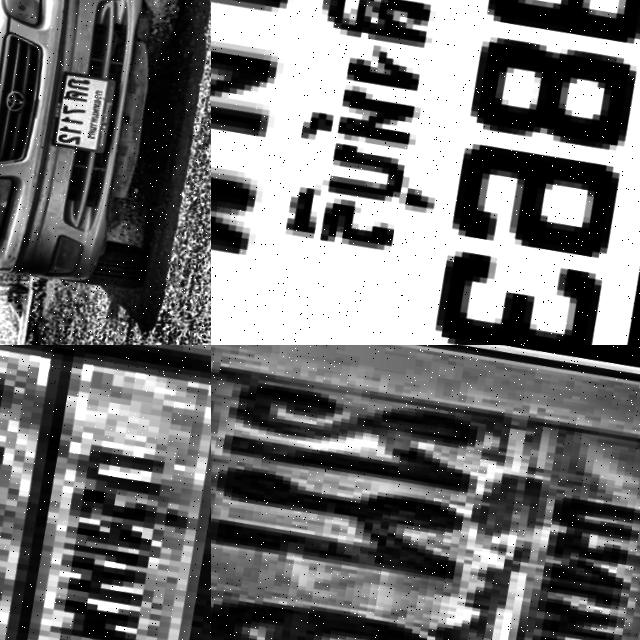license-plate: (211, 0, 640, 345), (211, 345, 640, 640), (0, 345, 211, 640), (47, 73, 122, 159)
